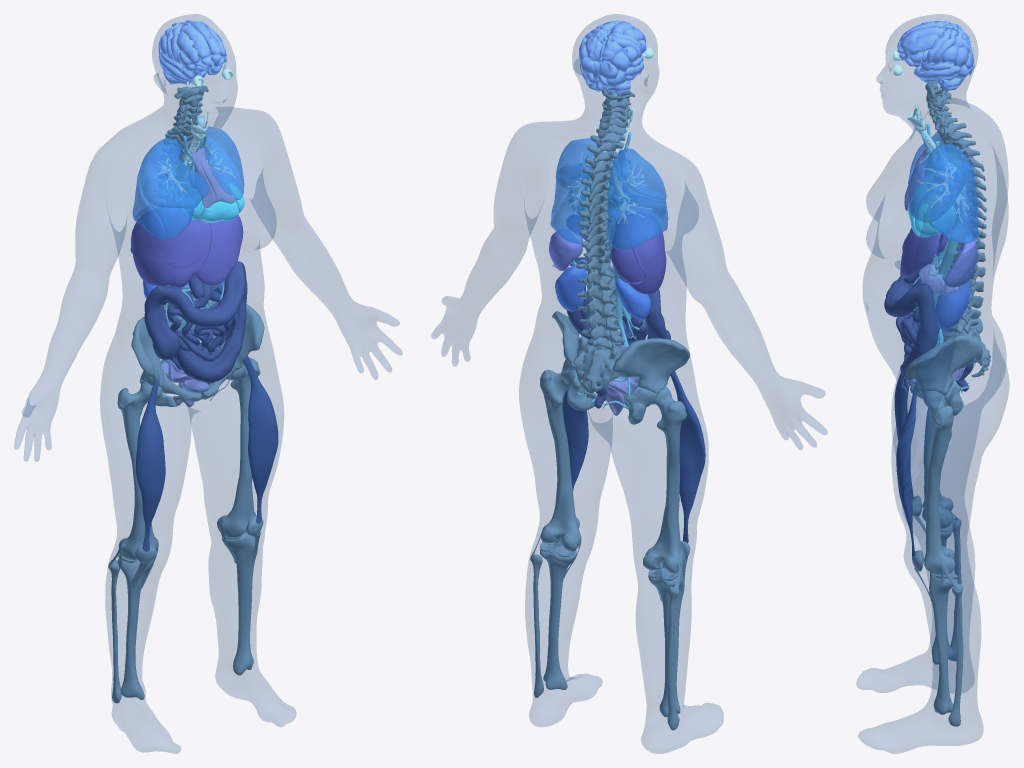
Rendered from female.glb.
The picture shows the model from 3 angles, left to right: view 1: azimuth 30°, elevation 25°; view 2: azimuth 150°, elevation 25°; view 3: azimuth 270°, elevation 25°; orthographic projection.
Visible parts, largest first — view 1: SKIN.001, INTESTINES.001, LIVER.001, KNEE_RIGHT.001, MUSCLES.001, KNEE_LEFT.001, LUNG_RIGHT.001, BRAIN.001, PELVIS.001, LUNG_LEFT.001, SPINE.001, THYMUS.001 (+4 smaller); view 2: SKIN.001, SPINE.001, KNEE_LEFT.001, PELVIS.001, KNEE_RIGHT.001, LUNG_RIGHT.001, BRAIN.001, MUSCLES.001, LIVER.001, LUNG_LEFT.001, INTESTINES.001, BLOOD_VESSELS.001 (+5 smaller); view 3: SKIN.001, KNEE_LEFT.001, LUNG_LEFT.001, SPINE.001, BRAIN.001, PELVIS.001, INTESTINES.001, KNEE_RIGHT.001, MUSCLES.001, BLOOD_VESSELS.001, LIVER.001, HEART.001 (+6 smaller).
Boxes of the visible parts, left/top/right/bottom form: SKIN.001: left=14, top=14, right=402, bottom=753; INTESTINES.001: left=144, top=261, right=247, bottom=382; LIVER.001: left=130, top=210, right=243, bottom=287; KNEE_RIGHT.001: left=108, top=381, right=162, bottom=703; MUSCLES.001: left=136, top=355, right=278, bottom=551; KNEE_LEFT.001: left=217, top=357, right=263, bottom=675; LUNG_RIGHT.001: left=132, top=138, right=208, bottom=239; BRAIN.001: left=158, top=19, right=226, bottom=85; PELVIS.001: left=131, top=301, right=264, bottom=406; LUNG_LEFT.001: left=192, top=126, right=244, bottom=200; SPINE.001: left=163, top=85, right=208, bottom=330; THYMUS.001: left=192, top=148, right=235, bottom=207; SKIN.001: left=431, top=14, right=827, bottom=753; SPINE.001: left=575, top=89, right=635, bottom=349; KNEE_LEFT.001: left=530, top=370, right=581, bottom=697; PELVIS.001: left=552, top=311, right=689, bottom=424; KNEE_RIGHT.001: left=643, top=386, right=690, bottom=730; LUNG_RIGHT.001: left=607, top=148, right=668, bottom=249; BRAIN.001: left=579, top=20, right=646, bottom=94; MUSCLES.001: left=562, top=371, right=705, bottom=543; LIVER.001: left=566, top=212, right=666, bottom=294; LUNG_LEFT.001: left=550, top=138, right=597, bottom=243; INTESTINES.001: left=566, top=257, right=670, bottom=408; BLOOD_VESSELS.001: left=571, top=132, right=644, bottom=409; SKIN.001: left=856, top=14, right=1009, bottom=753; KNEE_LEFT.001: left=912, top=391, right=963, bottom=726; LUNG_LEFT.001: left=907, top=144, right=978, bottom=243; SPINE.001: left=925, top=80, right=986, bottom=336; BRAIN.001: left=897, top=20, right=974, bottom=91; PELVIS.001: left=906, top=307, right=990, bottom=416; INTESTINES.001: left=884, top=256, right=973, bottom=391; KNEE_RIGHT.001: left=912, top=407, right=961, bottom=664; MUSCLES.001: left=894, top=373, right=917, bottom=556; BLOOD_VESSELS.001: left=913, top=124, right=975, bottom=392; LIVER.001: left=900, top=227, right=947, bottom=278; HEART.001: left=908, top=182, right=955, bottom=237.
Size of the model in its own units: 0.9674 by 1.67 by 0.3293.
